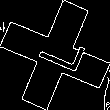L_NW: (26, 31, 84, 79)
